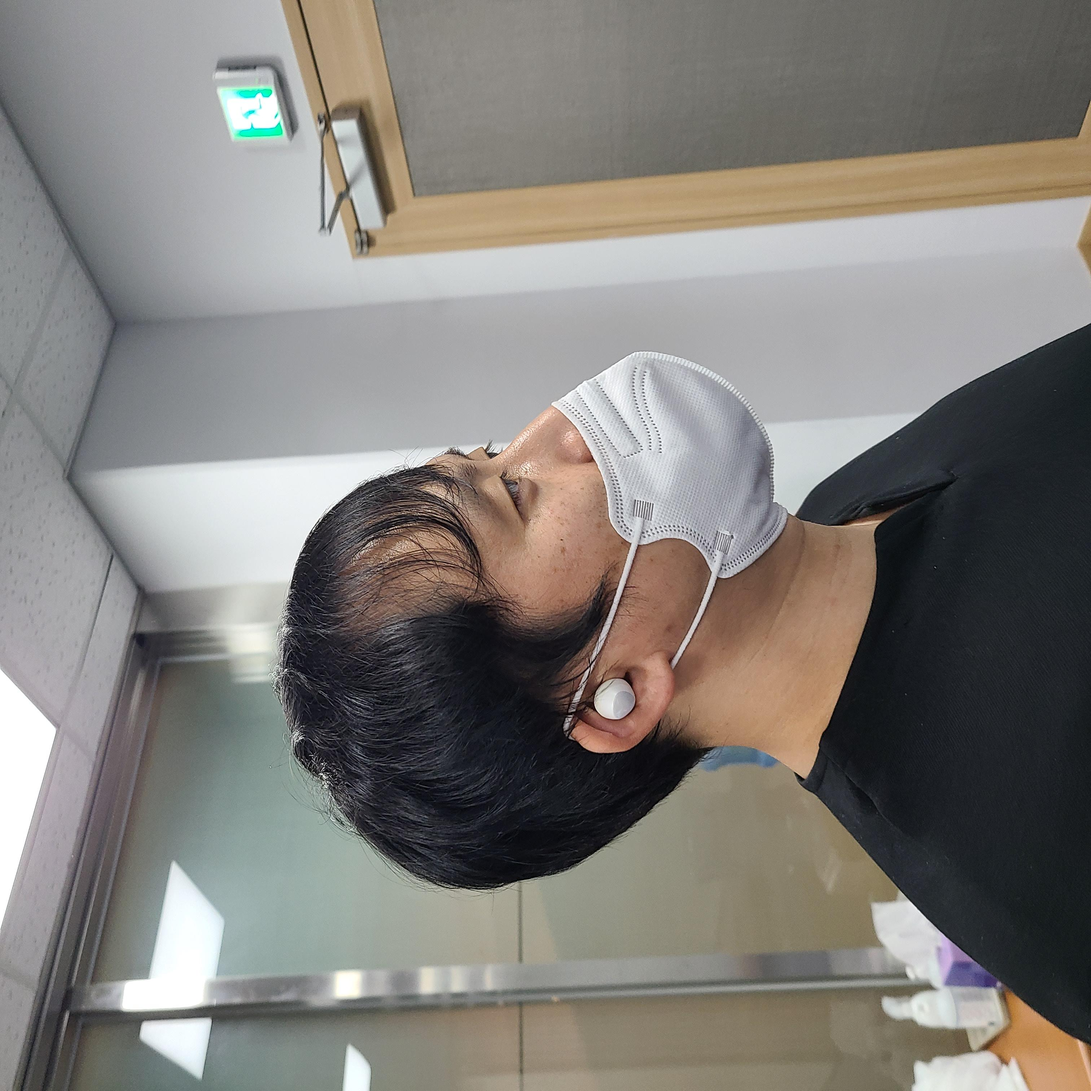earphone: (365, 587, 423, 643)
